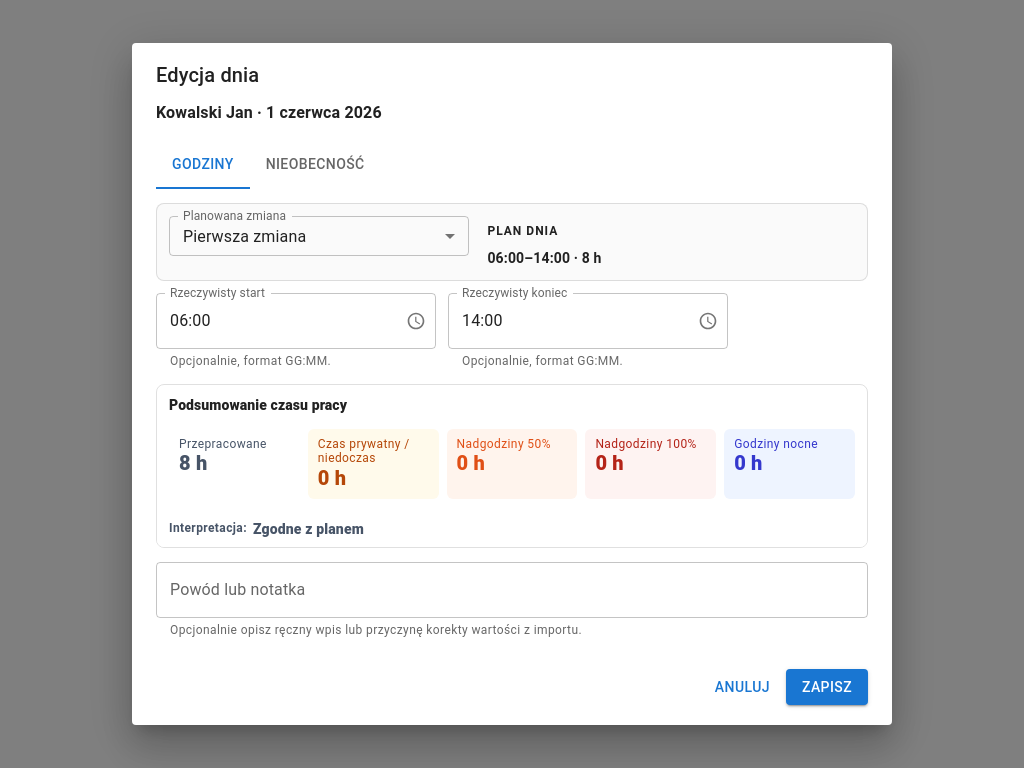
Scenario: DailyValueEditorDialog › derives overtime or shortage previews from the actual interval
The image size is (1024, 768).
Type "16:00" into the field labelled "Rzeczywisty koniec".
click(565, 321); type("16:00")  # box [448,293,682,349]
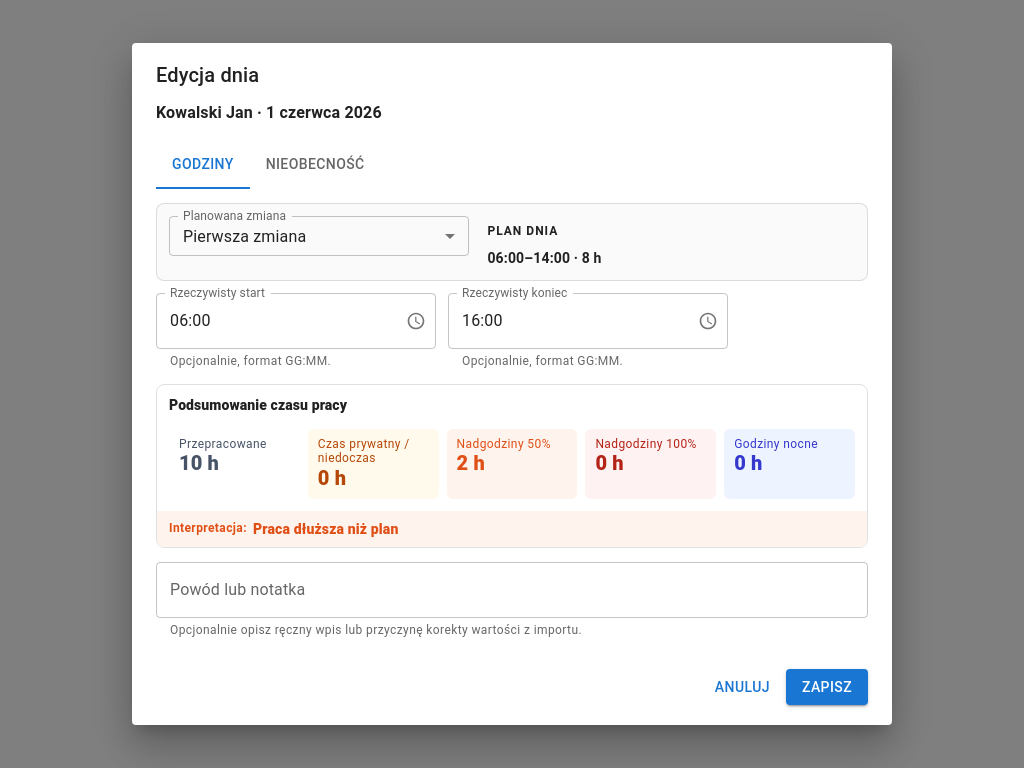
Now the element with test id "worked-hours" shows "10 h", box [169,429,300,499]
Now the element with test id "overtime-50-hours" shows "2 h", box [447,429,577,499]
Now the text "Praca dłuższa niż plan" is shown, box [253,519,398,539]
Replace the text in the field labelled "Rzeczywisty koniec" with "12:00" at (565, 321), box [448,293,682,349]
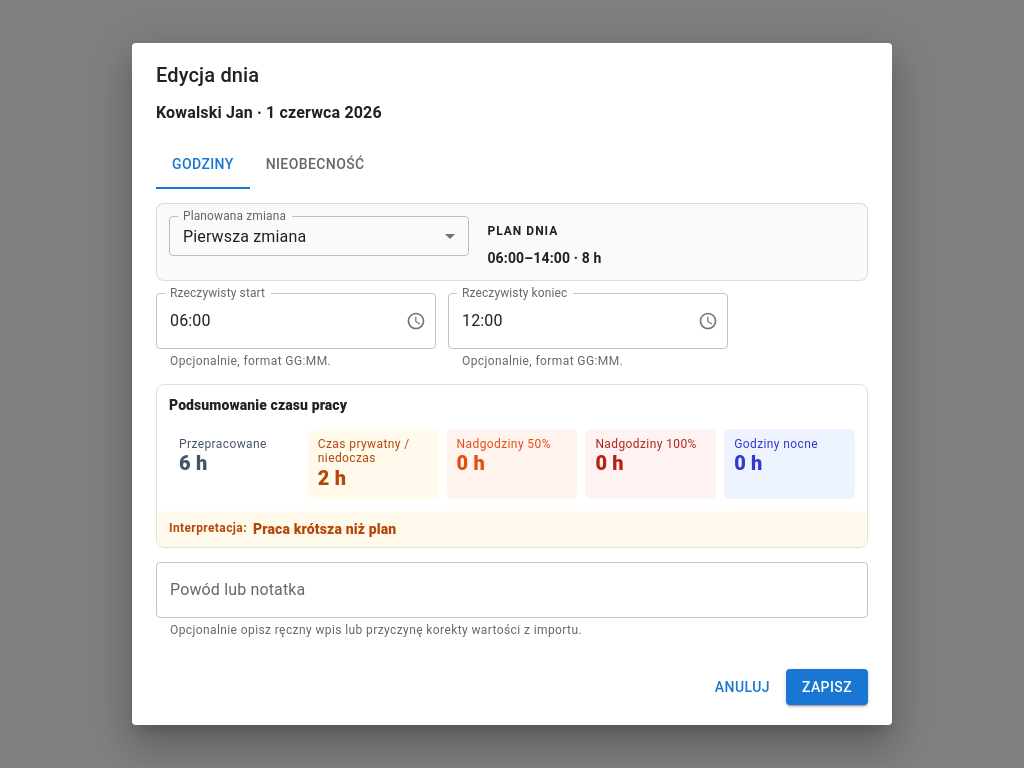
Now the element with test id "worked-hours" shows "6 h", box [169,429,300,499]
Now the element with test id "shortage-hours" shows "2 h", box [308,429,439,499]
Now the text "Praca krótsza niż plan" is shown, box [253,519,396,539]
